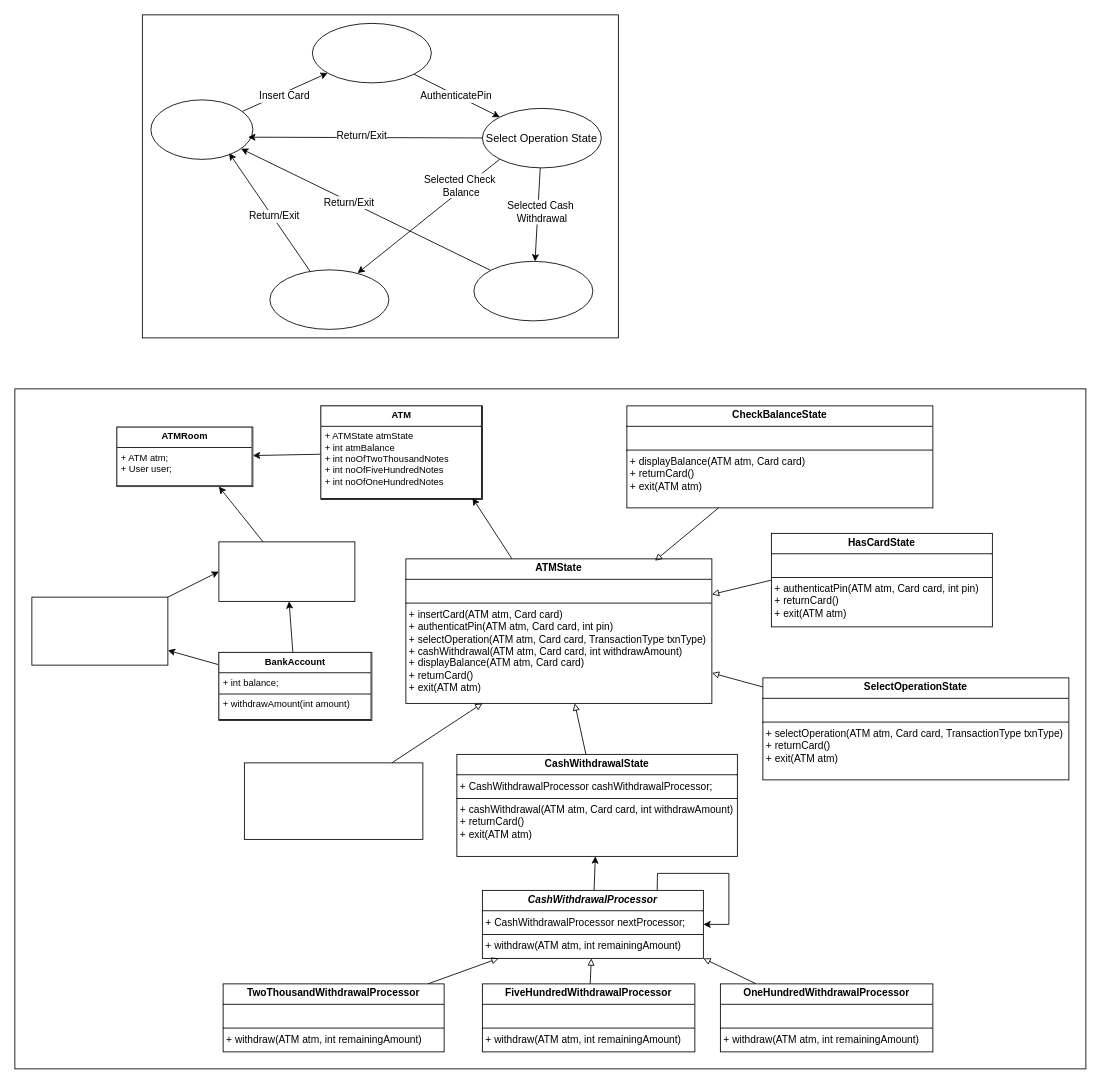
Some shapes in this 1101 by 1084 pixel diagram are drawn without their labels. Each missing label, with the centre of its shape:
"Card + int cvv; + Date expiryDate; + BankAccount bankAccount;" goes at (99,630).
"Cash Withdrawal State" goes at (533,291).
"Check Balance State" goes at (329,299).
"Has Card State" goes at (371,53).
"Idle State" goes at (201,129).
"IdleState + insertCard(ATM atm, Card card)" goes at (333,800).
"User + Card card; + BankAccount bankAccount;" goes at (286,571).
